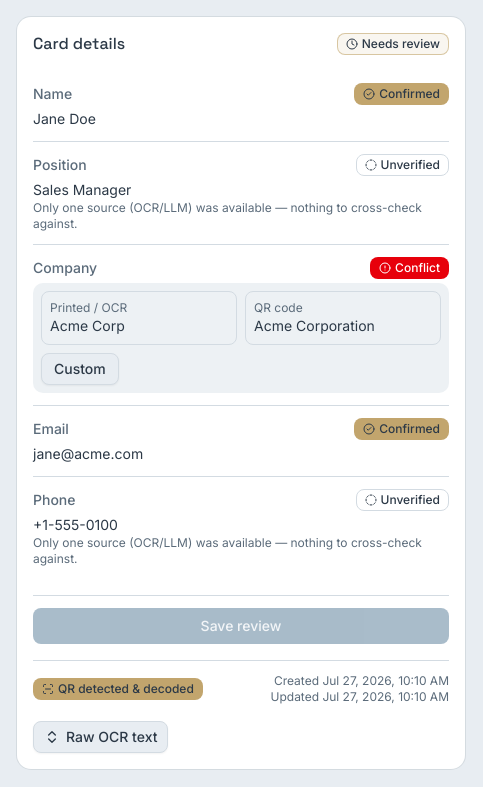
CardDetailPage — review resolution › disables Save review until at least one conflict is resolved
This screenshot has width=483, height=787.
Check: the button "Save review" is disabled, box left=33, top=608, right=449, bottom=644
// Resolve the `company` conflict by picking the QR candidate.
Click the text "Acme Corporation" at (314, 326), box left=254, top=317, right=375, bottom=334
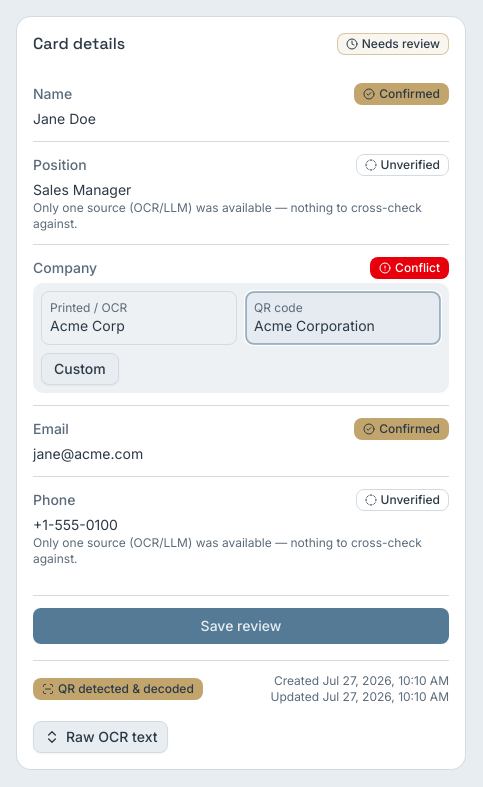
Check: the button "Save review" is enabled, box left=33, top=608, right=449, bottom=644
